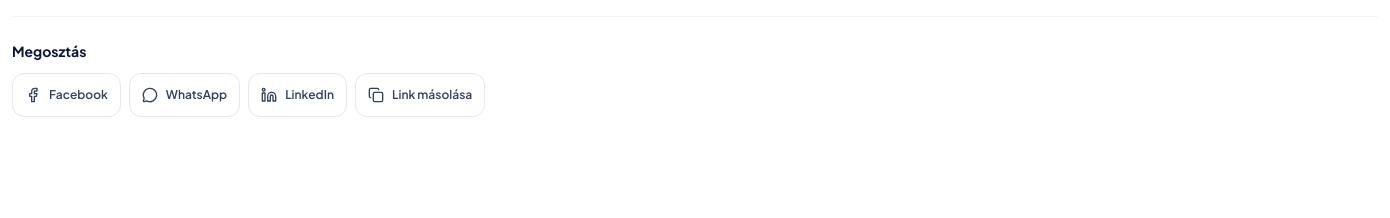
provides a selectable URL when clipboard access is denied
The width and height of the screenshot is (1390, 218).
Click the button "Link másolása".
click(420, 95)  # box [355,73,485,117]
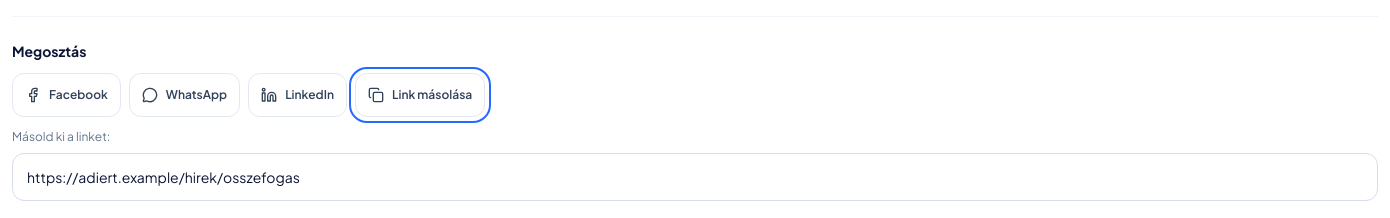
Expected: the field named "Cikk linkje" holds "https://adiert.example/hirek/osszefogas", [12,153,1378,201]
